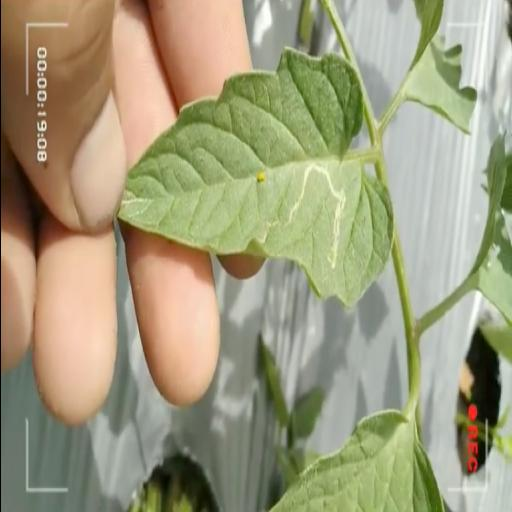disease_tomato: (116, 46, 394, 310)
